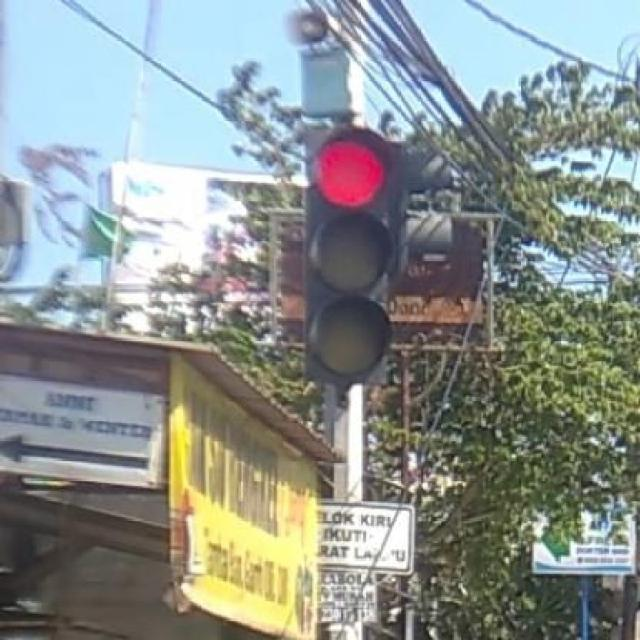red light: (303, 130, 389, 381)
